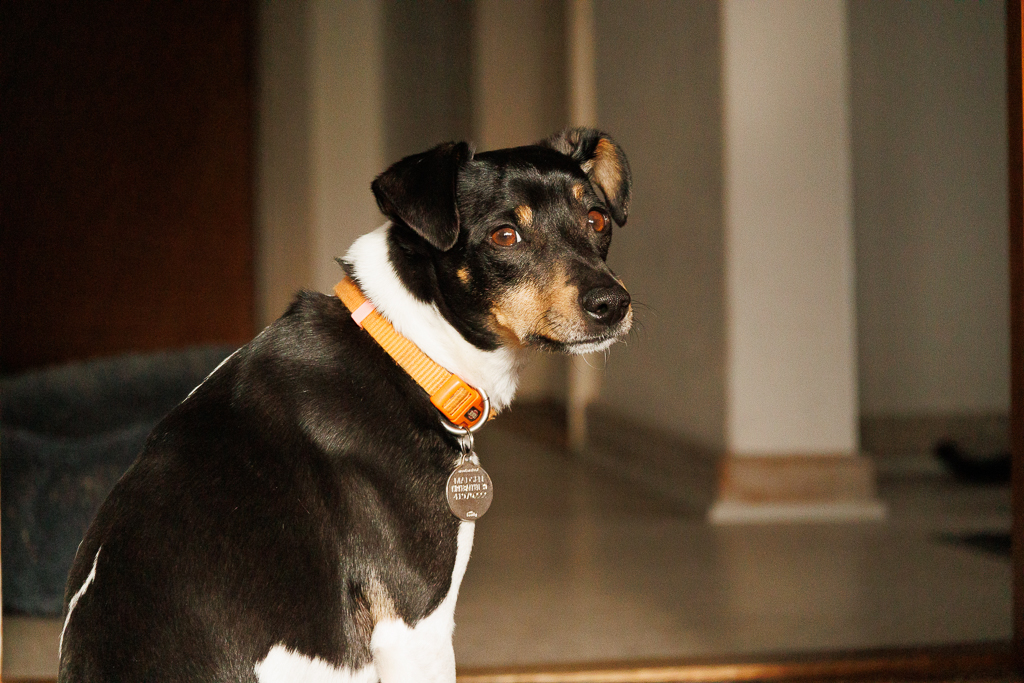Dog: (47, 119, 670, 683)
